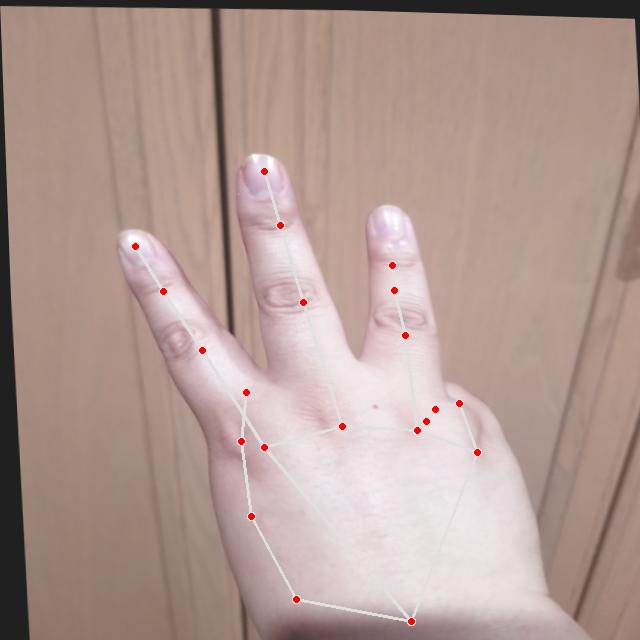W: (99, 136, 566, 639)
